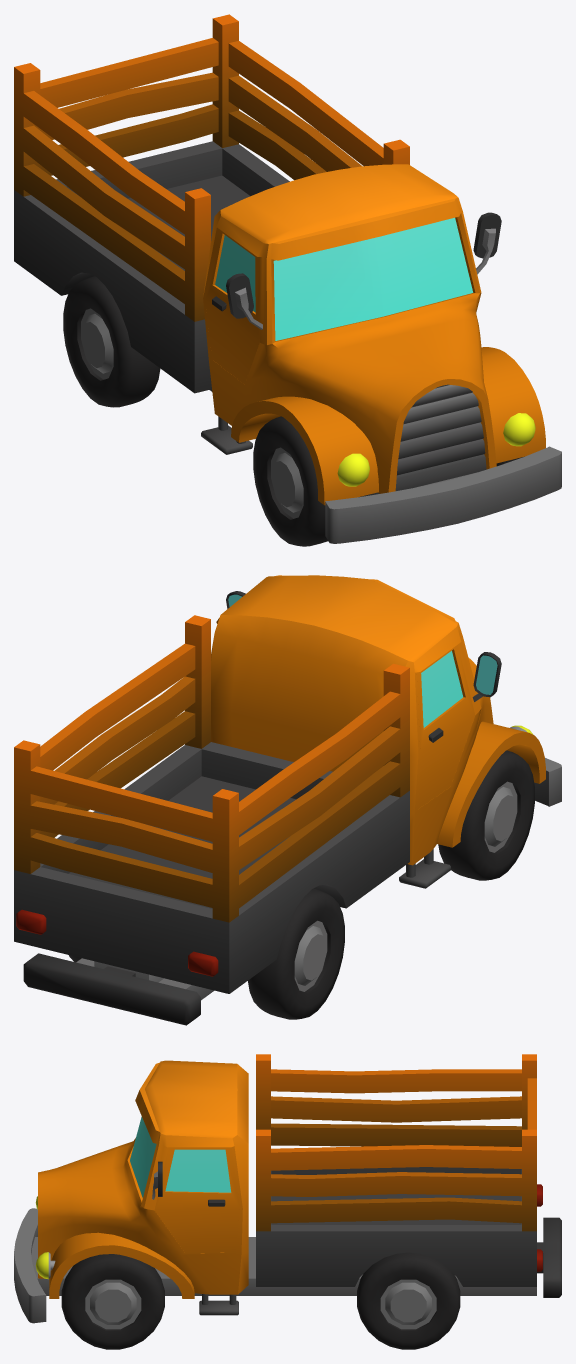
The model's file is Farm_Vehicle_Truck_01.fbx.
The picture shows the model from 3 angles, top to bottom: view 1: azimuth 30°, elevation 25°; view 2: azimuth 150°, elevation 25°; view 3: azimuth 270°, elevation 25°; orthographic projection. The views are drawn at different scales.
Visible parts, largest first — view 1: Farm_Vehicle_Truck_01_Body, Rear_Wheel, Front_Wheel; view 2: Farm_Vehicle_Truck_01_Body, Rear_Wheel, Front_Wheel; view 3: Farm_Vehicle_Truck_01_Body, Rear_Wheel, Front_Wheel.
Part boxes in pixels (x1,y1,x2,y2): Farm_Vehicle_Truck_01_Body: [14, 14, 561, 543]; Rear_Wheel: [63, 276, 160, 407]; Front_Wheel: [253, 416, 524, 546]; Farm_Vehicle_Truck_01_Body: [14, 575, 561, 1025]; Rear_Wheel: [69, 888, 344, 1019]; Front_Wheel: [438, 750, 534, 880]; Farm_Vehicle_Truck_01_Body: [14, 1054, 561, 1323]; Rear_Wheel: [357, 1252, 460, 1349]; Front_Wheel: [61, 1254, 164, 1349].
Size of the model in its own units: 3.31 by 3.37 by 7.42.
